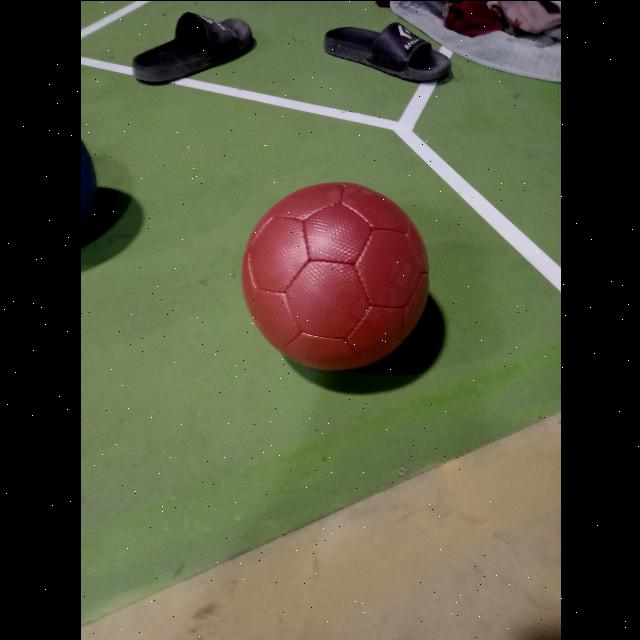B: (80, 136, 96, 234)
R: (240, 182, 428, 370)
